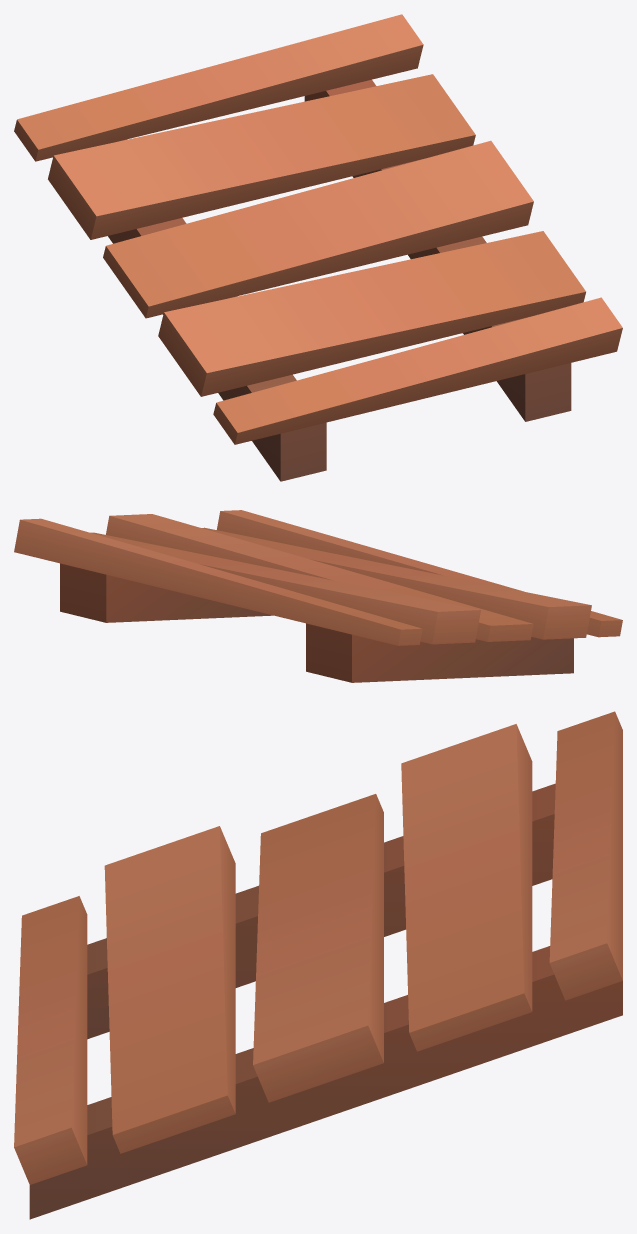
File: kenney-platformer-platform-ramp.glb
The picture shows the model from 3 angles, top to bottom: view 1: azimuth 30°, elevation 25°; view 2: azimuth 150°, elevation 25°; view 3: azimuth 270°, elevation 25°; orthographic projection. The views are drawn at different scales.
Visible parts, largest first — view 1: platform-ramp; view 2: platform-ramp; view 3: platform-ramp.
Part boxes in pixels (bbox=[...]): platform-ramp: bbox=[14, 14, 622, 481]; platform-ramp: bbox=[14, 510, 622, 682]; platform-ramp: bbox=[14, 711, 622, 1219].
Bounding box in the file's own units: 0.9999 × 0.5702 × 1.03.
1 material, 1 textured.
